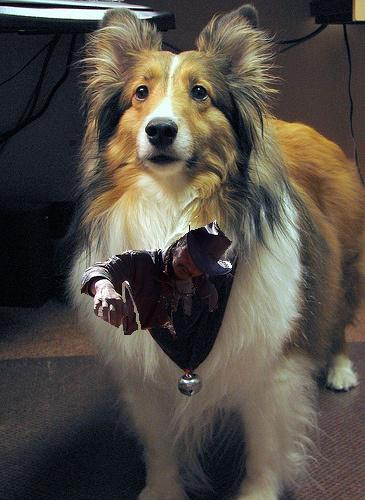tampered: (82, 217, 232, 340)
